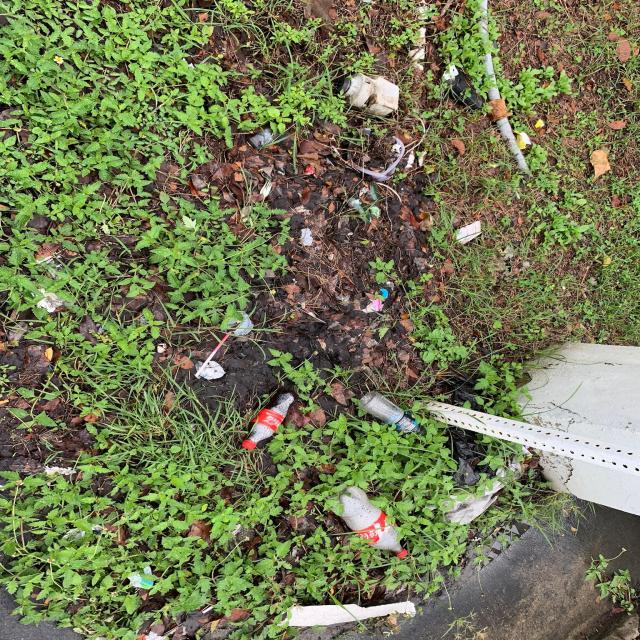litter: (438, 445, 536, 528), (322, 485, 410, 559), (446, 366, 498, 487), (192, 310, 254, 378), (239, 387, 300, 451), (274, 600, 418, 627), (358, 390, 427, 437), (348, 128, 406, 182), (337, 73, 400, 118), (436, 61, 484, 113), (156, 602, 220, 639), (242, 124, 287, 151), (125, 565, 156, 590), (515, 128, 533, 150), (303, 164, 328, 177), (298, 227, 312, 247), (377, 287, 389, 300), (534, 118, 545, 130)
